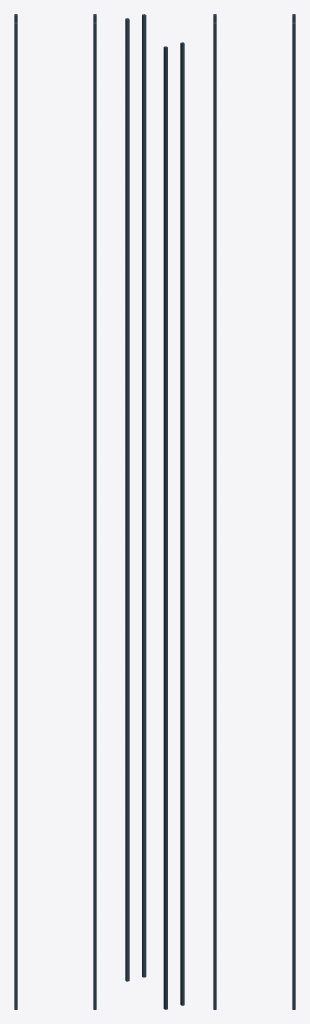
Rendered from east-public-room-frame.glb.
3 views of the same model, side by side, from view 1: azimuth 90°, elevation 25°; view 2: azimuth 210°, elevation 25°; view 3: azimuth 270°, elevation 25° (orthographic). The views are drawn at different scales.
Parts seen in each view (by area): view 1: east-public-room-frame::east-loggia-frame-100.85-306.8; view 2: east-public-room-frame::east-loggia-frame-100.85-306.8; view 3: east-public-room-frame::east-loggia-frame-100.85-306.8.
Boxes of the visible parts, <box> form: east-public-room-frame::east-loggia-frame-100.85-306.8: <box>14,14,96,1009</box>; east-public-room-frame::east-loggia-frame-100.85-306.8: <box>125,14,184,1009</box>; east-public-room-frame::east-loggia-frame-100.85-306.8: <box>213,14,295,1009</box>.
Size of the model in its own units: 1.88 by 88.2 by 6.68.
Materials: 2 (1 with a texture image).
